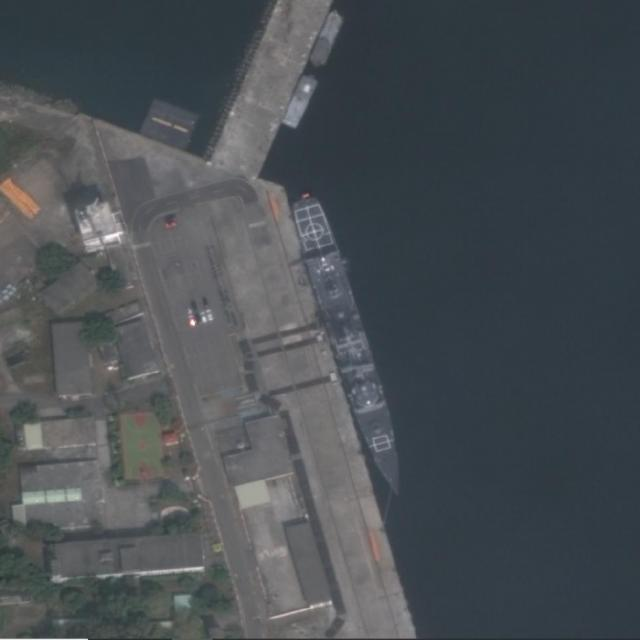Frigate: (292, 192, 413, 499)
